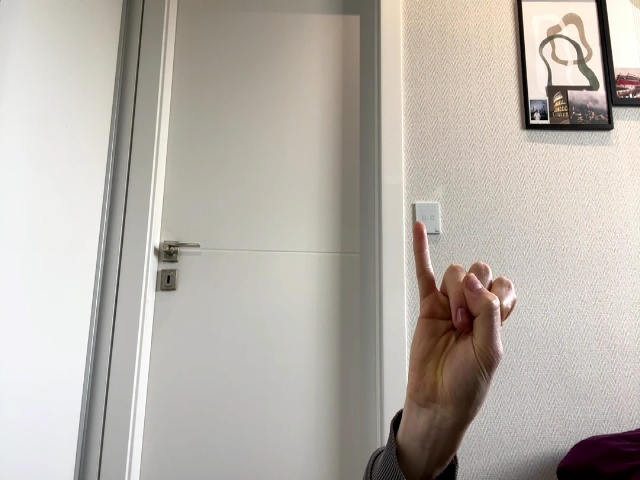I: (411, 222, 518, 418)
